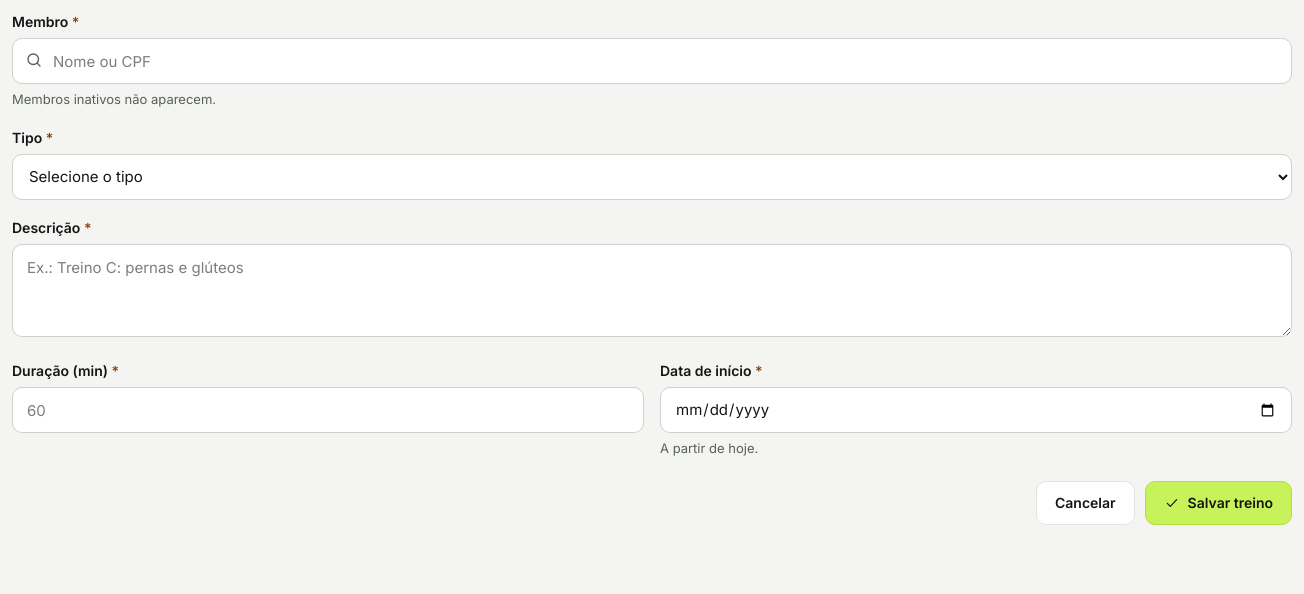
Test: FormTreino › criar › mostra os erros e não envia com o formulário vazio
The image size is (1304, 594).
Click the button "Salvar treino" at (1218, 502), box x1=1145 y1=480 x2=1292 y2=524
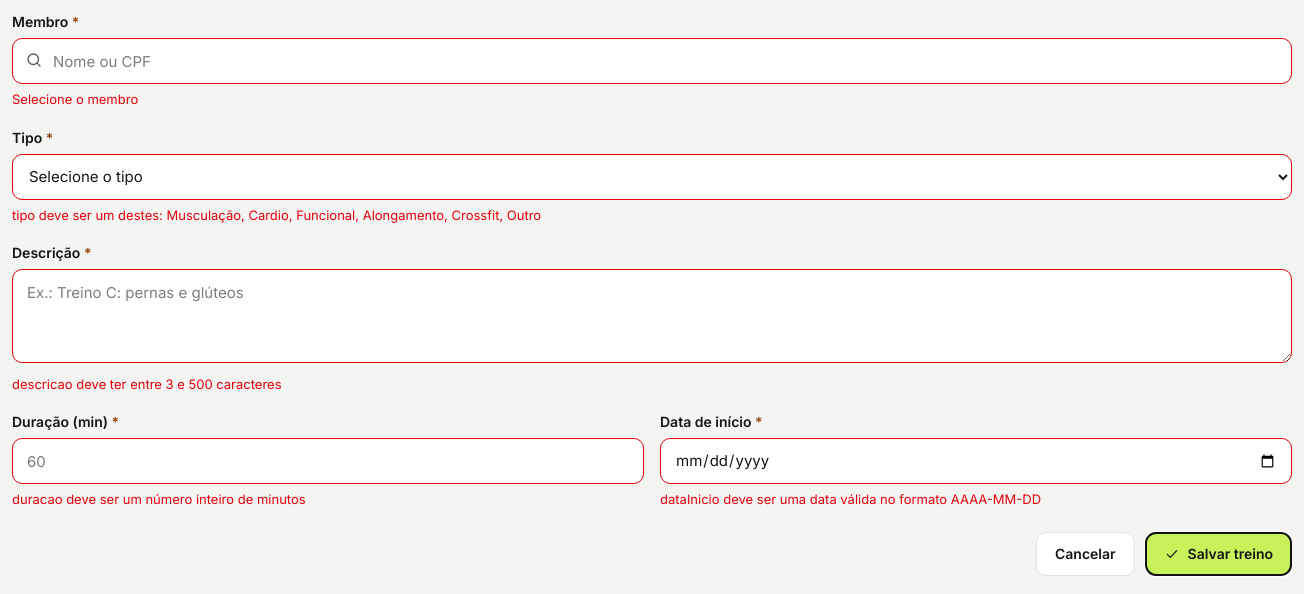
Now the text "Selecione o membro" is shown, box x1=12 y1=91 x2=138 y2=107
Now the text "descricao deve ter entre 3 e 500 caracteres" is shown, box x1=12 y1=376 x2=282 y2=392
Now the text "duracao deve ser um número inteiro de minutos" is shown, box x1=12 y1=491 x2=306 y2=507
